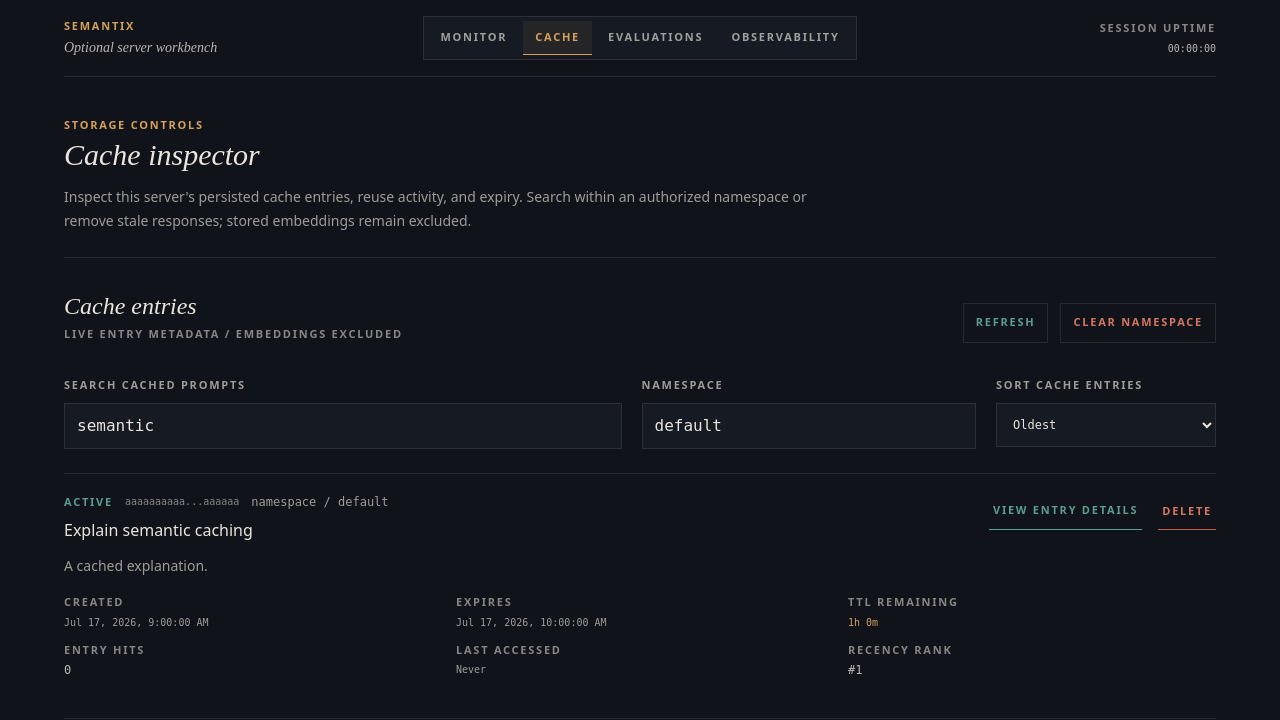
Test case: application routing › restores Cache filters after opening and closing entry detail
The image size is (1280, 720).
Expected: the heading "Explain semantic caching" is shown, [64,519,253,541]
Click the link "View entry details" at (1066,512), box [989,494,1142,530]
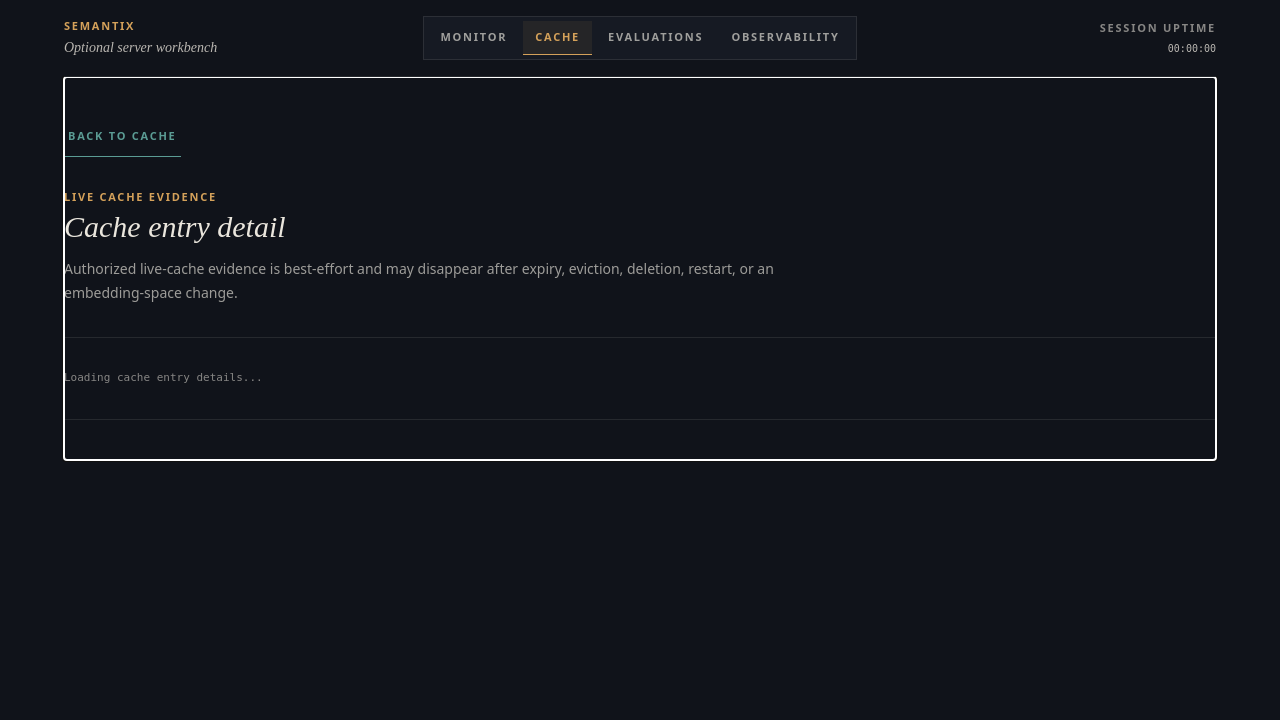
Now the heading "Cache entry detail" is shown, box [64,210,286,243]
Click the link "Back to Cache" at (122,136), box [64,116,180,156]
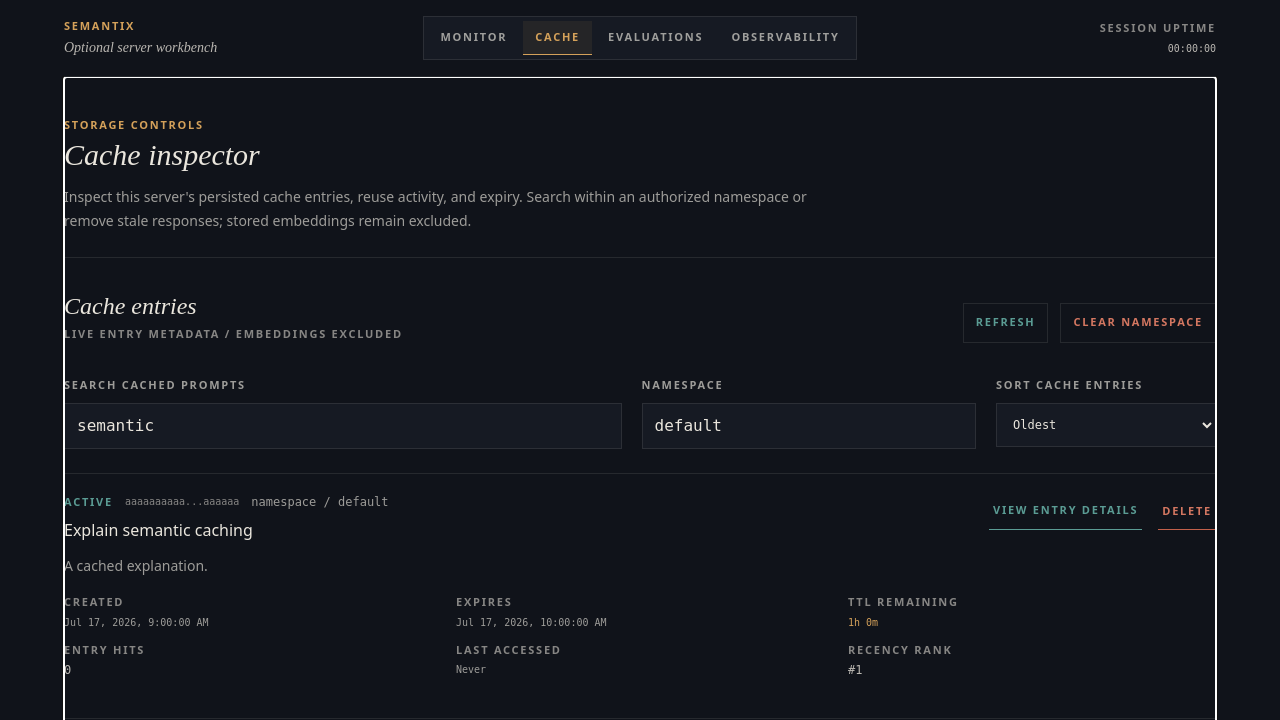
Now the search field showing "semantic" is shown, box [64,402,622,448]
Now the field labelled "Namespace" holds "default", box [642,402,976,448]
Now the dropdown labelled "Sort cache entries" shows "Oldest", box [996,402,1216,446]
